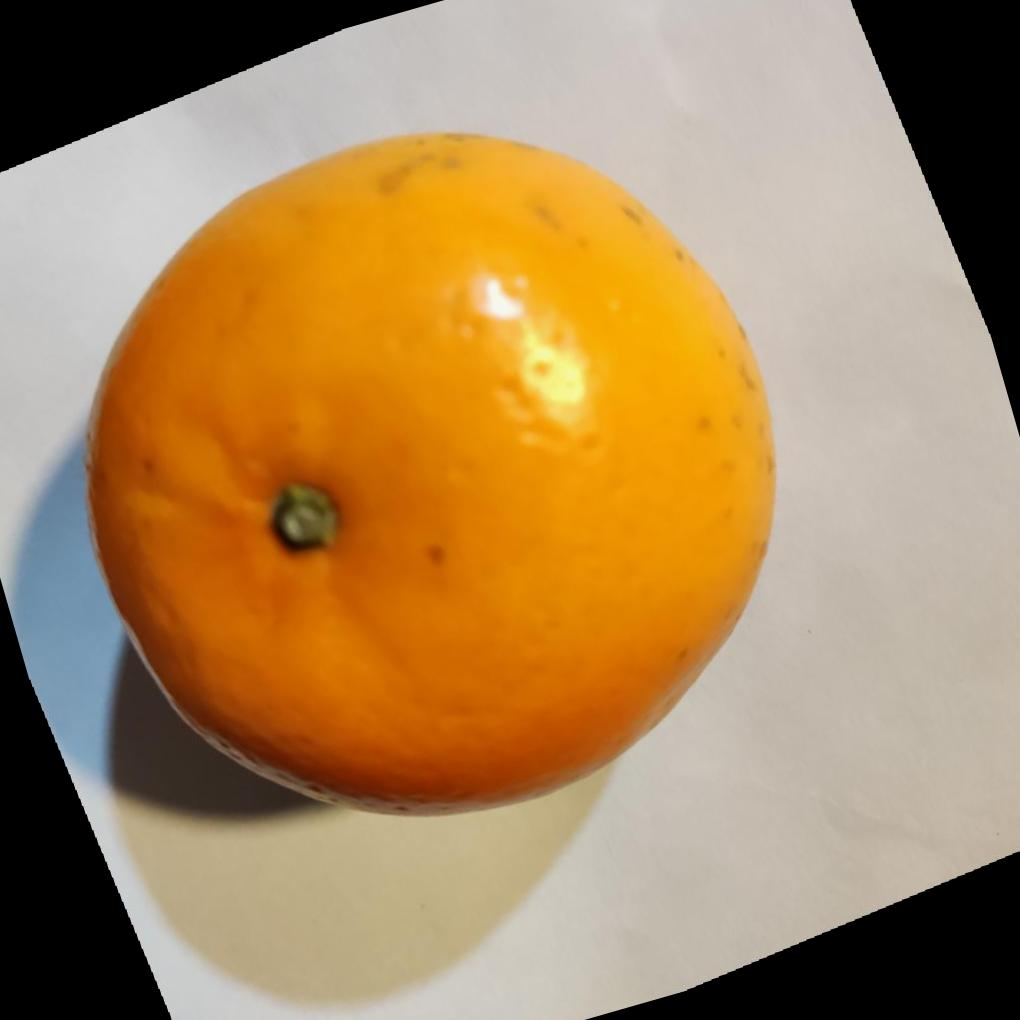FreshGuava: (81, 126, 777, 815)
